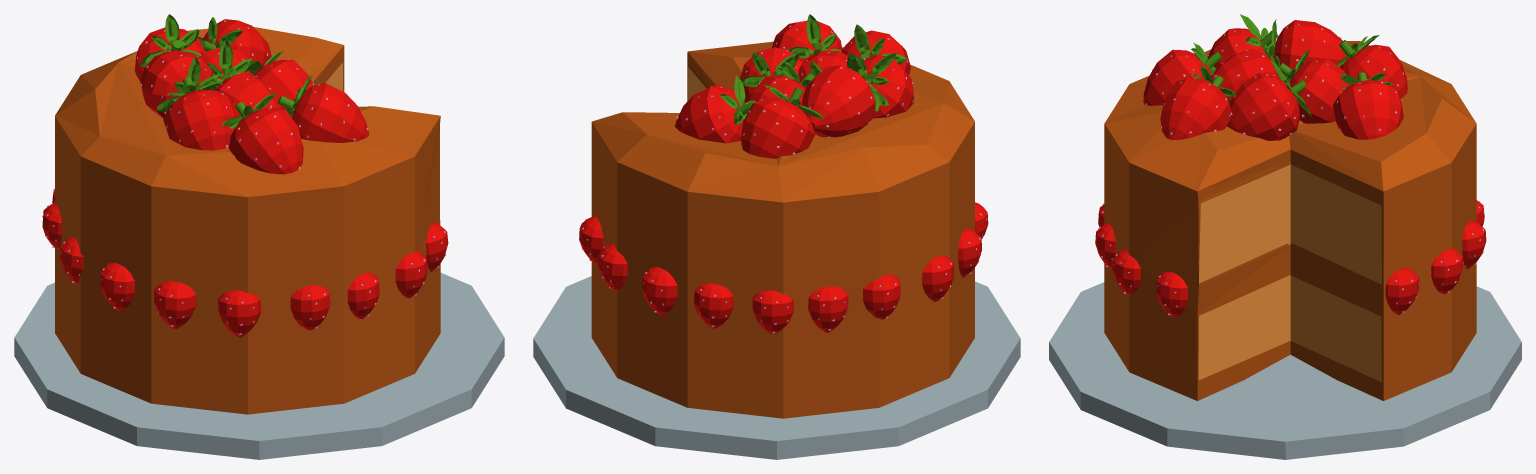
Rendered from strawberry_shortcake.fbx.
3 renders of one model, left to right at view 1: azimuth 30°, elevation 25°; view 2: azimuth 150°, elevation 25°; view 3: azimuth 270°, elevation 25°, orthographic. The views are drawn at different scales.
Size of the model in its own units: 0.94 by 0.6774 by 0.94.
